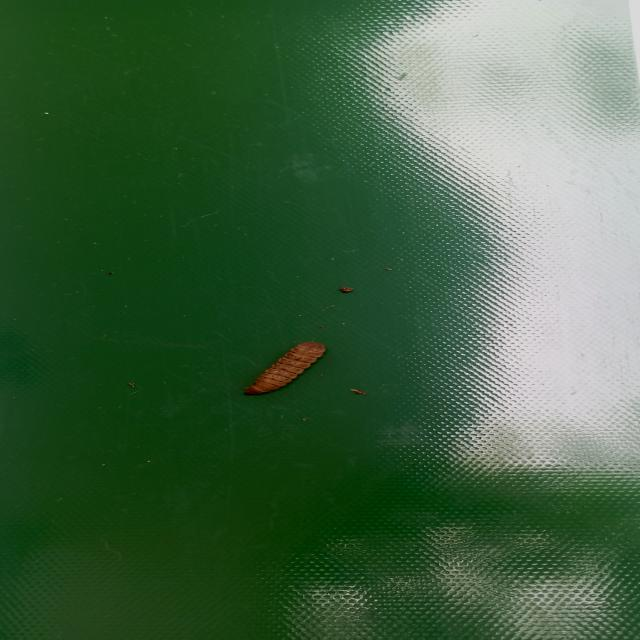Maggot: (244, 342, 326, 398)
